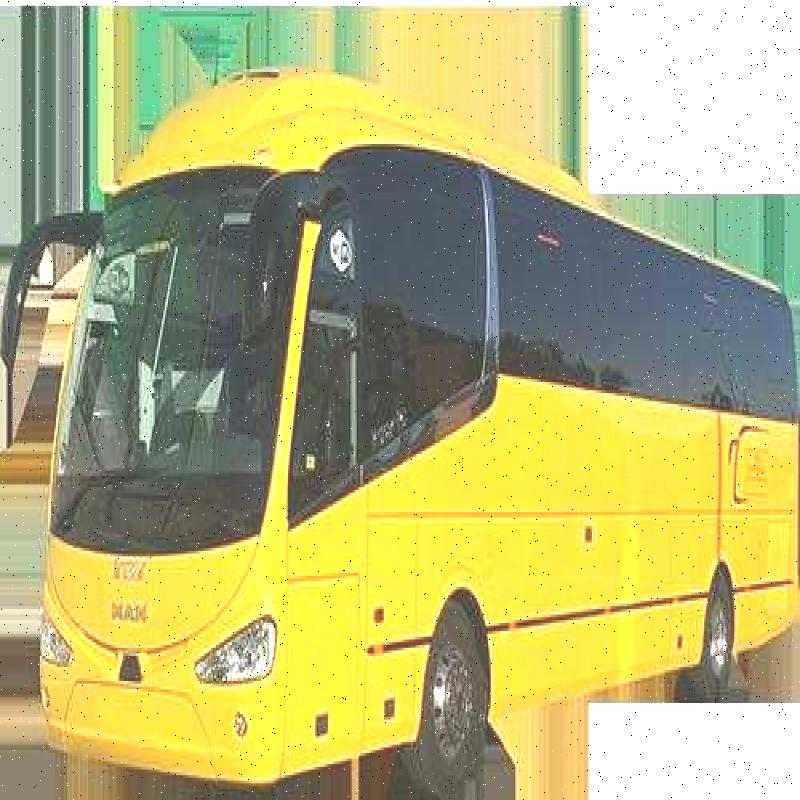bus: (1, 61, 800, 780)
